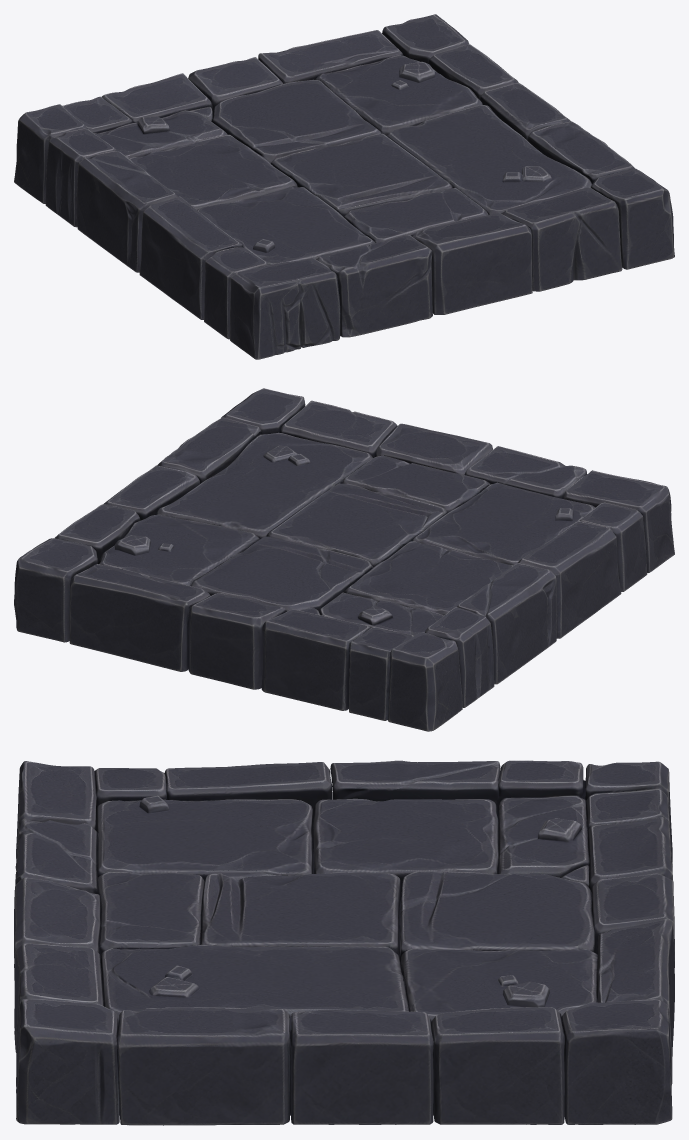
File: Meshy_AI_CleanGothicFloorTile_20261118_image-to-3d-texture.fbx
3 renders of one model, top to bottom at view 1: azimuth 30°, elevation 25°; view 2: azimuth 150°, elevation 25°; view 3: azimuth 270°, elevation 25°, orthographic. The views are drawn at different scales.
Visible parts, largest first — view 1: Mesh_0; view 2: Mesh_0; view 3: Mesh_0.
Part boxes in pixels (x1=…): Mesh_0: x1=14, y1=14, x2=674, y2=359; Mesh_0: x1=14, y1=388, x2=674, y2=731; Mesh_0: x1=14, y1=760, x2=674, y2=1125.
Bounding box in the file's own units: 189 × 29.88 × 190.
Materials: 1 (1 with a texture image).
